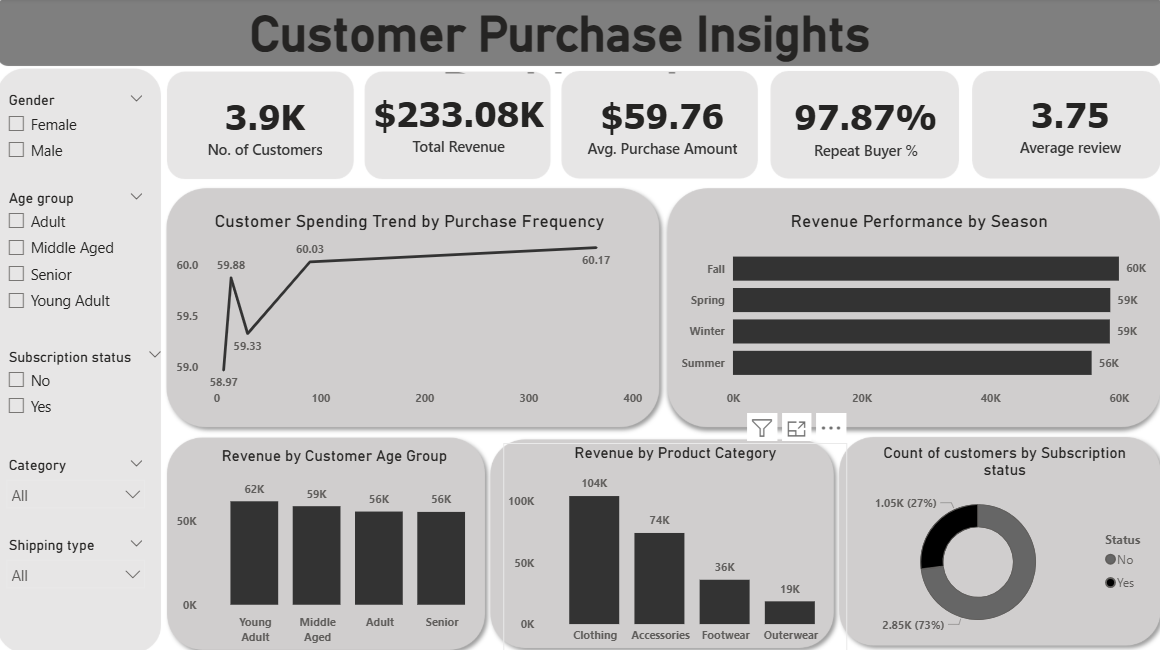

The page's visual inventory and layout, read from the dashboard file:
{"tool":"powerbi","page":{"name":"Page 1","canvas":[1280,720],"ordinal":0},"visuals":[{"type":"textbox","title":"Customer Purchase Insights Dashboard","box":[118,8.2,1000.3,74.1],"z":0},{"type":"cardVisual","fields":{"Data":["public customer.Total Revenue"]},"box":[382.4,69.1,248.5,139.7],"z":1000},{"type":"cardVisual","fields":{"Data":["public customer.Number of Customers"]},"box":[192.8,88.4,204.3,108.7],"z":2000},{"type":"cardVisual","fields":{"Data":["public customer.Average Purchase Amount"]},"box":[617.6,73.5,226.5,132.4],"z":3000},{"type":"cardVisual","fields":{"Data":["public customer.Repeat Buyer"]},"box":[844.1,73.5,220.6,136.8],"z":4000},{"type":"cardVisual","fields":{"Data":["public customer.Average review"]},"box":[1077.1,82.4,202.9,114.7],"z":5000},{"type":"slicer","fields":{"Values":["public customer.gender"]},"box":[0,98.6,172.5,88.4],"z":5001},{"type":"slicer","fields":{"Values":["public customer.age_group"]},"box":[0,205.8,172.5,153.6],"z":5002},{"type":"slicer","fields":{"Values":["public customer.subscription_status"]},"box":[0,379.7,192.8,104.3],"z":5003},{"type":"slicer","fields":{"Values":["public customer.category"]},"box":[0,500,172.5,69.6],"z":5004},{"type":"slicer","fields":{"Values":["public customer.shipping_type"]},"box":[0,587,172.5,73.9],"z":5005},{"type":"donutChart","fields":{"Category":["public customer.subscription_status"],"Y":["CountNonNull(public customer.customer_id)"]},"box":[933.3,488.4,346.4,220.3],"z":5006},{"type":"lineChart","title":"Customer Spending Trend by Purchase Frequency","fields":{"Category":["public customer.purchase_frequency_days"],"Y":["public customer.Average Purchase Amount"]},"box":[192.8,233.3,521.7,224.6],"z":5007},{"type":"columnChart","title":"Revenue by Product Category","fields":{"Category":["public customer.category"],"Y":["Sum(public customer.purchase_amount_usd)"]},"box":[555.1,488.4,378.3,229],"z":5008},{"type":"clusteredColumnChart","title":"Revenue by Customer Age Group","fields":{"Category":["public customer.age_group"],"Y":["Sum(public customer.purchase_amount_usd)"]},"box":[192.8,492.8,356.5,224.6],"z":5009},{"type":"clusteredBarChart","title":"Revenue Performance by Season","fields":{"Category":["public customer.season"],"Y":["Sum(public customer.purchase_amount_usd)"]},"box":[744.9,233.3,534.8,224.6],"z":5010}]}

Visuals, with their boxes in screenshot pixels (x1, y1, x2, y2), scaled from the page's 1280x720 canvas onto the 1160x650 screenshot:
"Customer Purchase Insights Dashboard" textbox: {"left": 107, "top": 7, "right": 1013, "bottom": 74}
cardVisual - public customer.Total Revenue: {"left": 347, "top": 62, "right": 572, "bottom": 188}
cardVisual - public customer.Number of Customers: {"left": 175, "top": 80, "right": 360, "bottom": 178}
cardVisual - public customer.Average Purchase Amount: {"left": 560, "top": 66, "right": 765, "bottom": 186}
cardVisual - public customer.Repeat Buyer: {"left": 765, "top": 66, "right": 965, "bottom": 190}
cardVisual - public customer.Average review: {"left": 976, "top": 74, "right": 1159, "bottom": 178}
slicer - public customer.gender: {"left": 0, "top": 89, "right": 156, "bottom": 169}
slicer - public customer.age_group: {"left": 0, "top": 186, "right": 156, "bottom": 324}
slicer - public customer.subscription_status: {"left": 0, "top": 343, "right": 175, "bottom": 437}
slicer - public customer.category: {"left": 0, "top": 451, "right": 156, "bottom": 514}
slicer - public customer.shipping_type: {"left": 0, "top": 530, "right": 156, "bottom": 597}
donutChart - public customer.subscription_status x CountNonNull(public customer.customer_id): {"left": 846, "top": 441, "right": 1159, "bottom": 640}
"Customer Spending Trend by Purchase Frequency" lineChart: {"left": 175, "top": 211, "right": 648, "bottom": 413}
"Revenue by Product Category" columnChart: {"left": 503, "top": 441, "right": 846, "bottom": 648}
"Revenue by Customer Age Group" clusteredColumnChart: {"left": 175, "top": 445, "right": 498, "bottom": 648}
"Revenue Performance by Season" clusteredBarChart: {"left": 675, "top": 211, "right": 1159, "bottom": 413}
